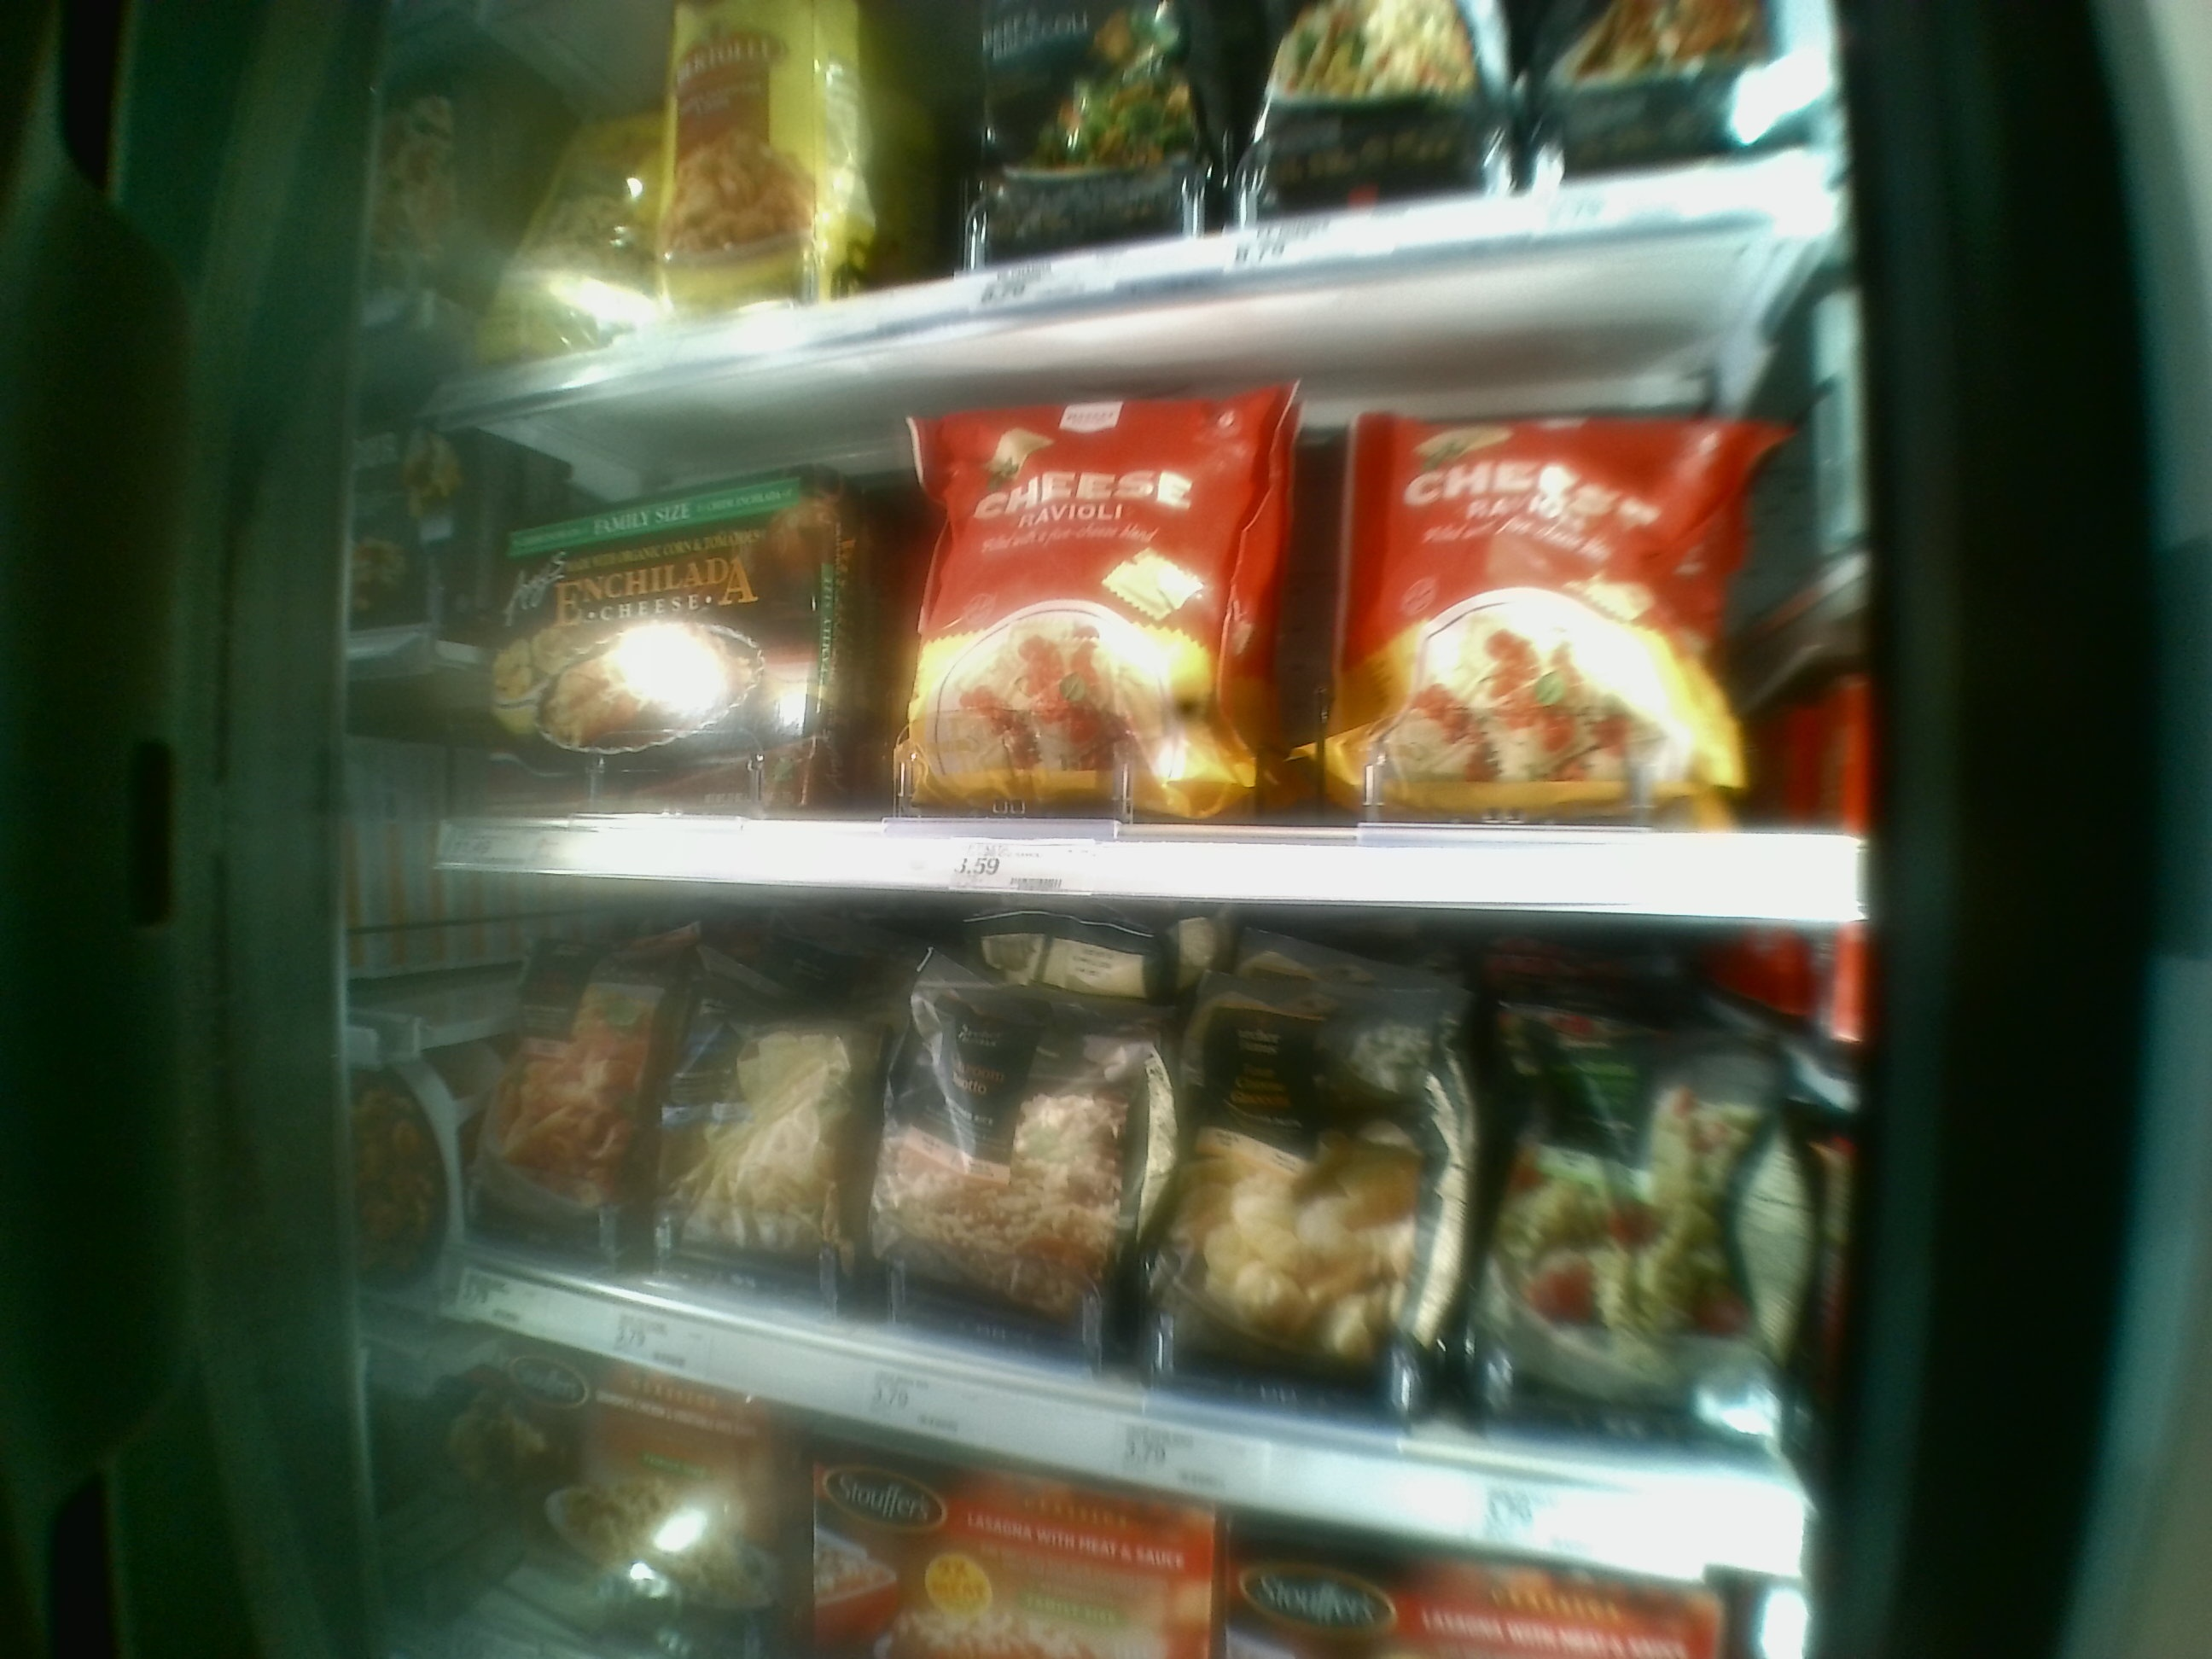shelf: (371, 871, 1878, 1593), (388, 204, 1872, 927)
